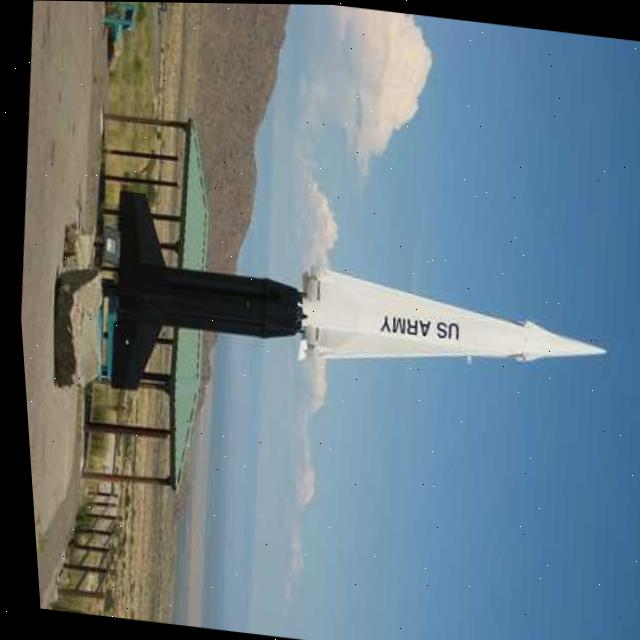missile: (283, 256, 610, 422)
